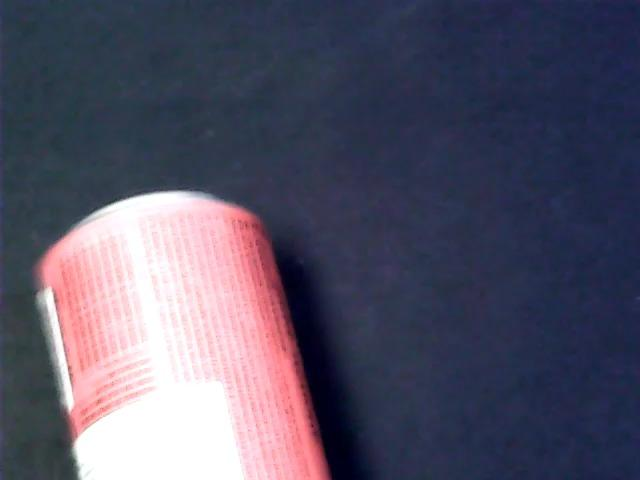coke: (26, 183, 351, 474)
